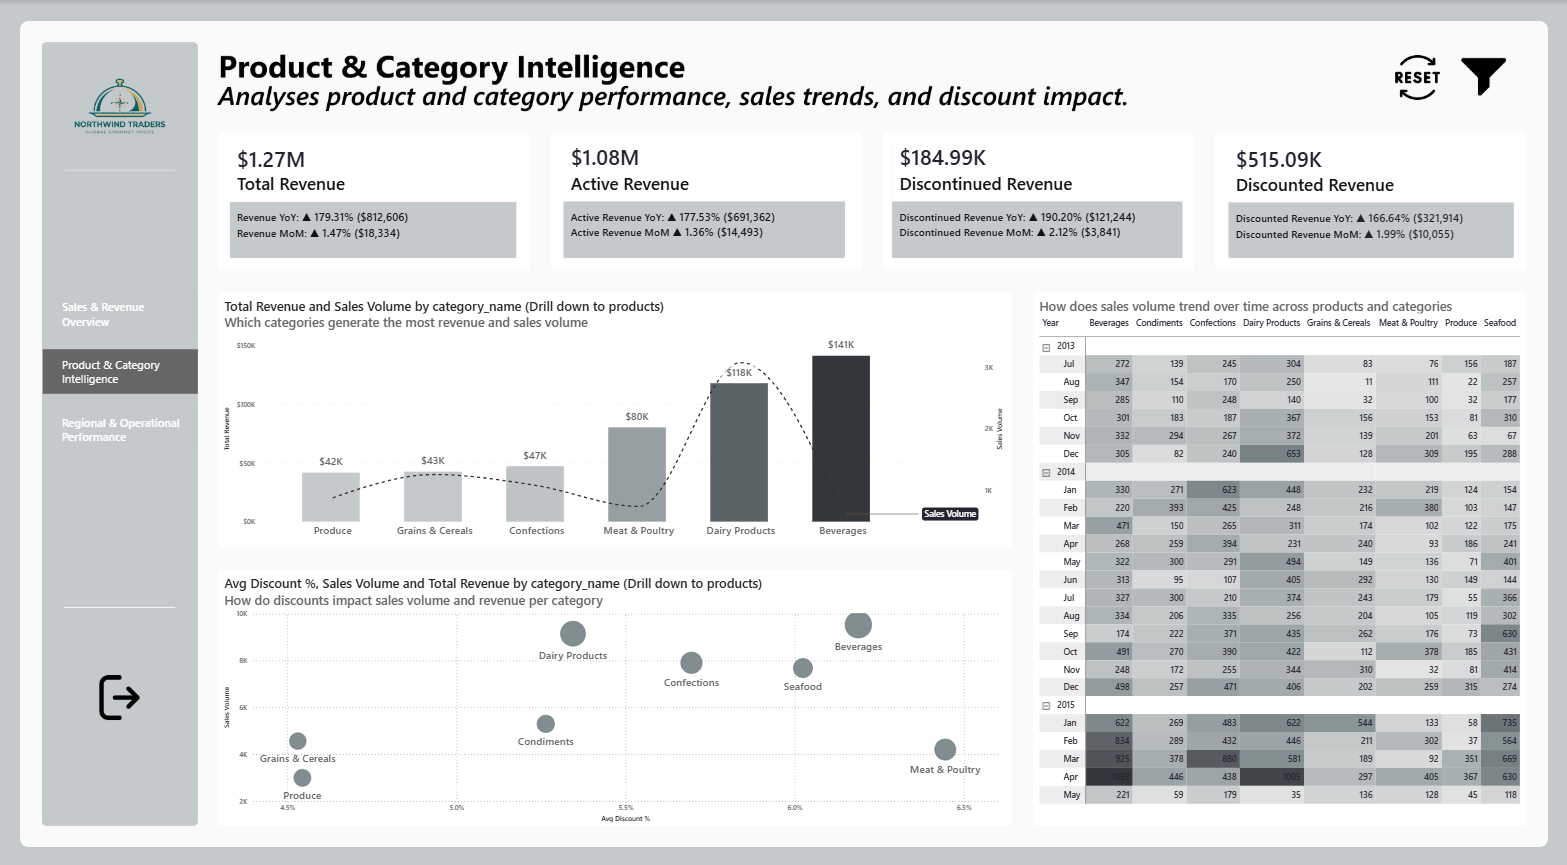

The page's visual inventory and layout, read from the dashboard file:
{"tool":"powerbi","page":{"name":"Product & Category Intelligence","canvas":[2449,1355],"ordinal":1},"visuals":[{"type":"lineClusteredColumnComboChart","title":"Total Revenue and Sales Volume by category_name (Drill down to products)","fields":{"Category":["category.category_name","product.product_name"],"Y":["Calculated Measures.Total Revenue"],"Y2":["Calculated Measures.Sales Volume"]},"box":[342,452,1238,402],"z":0},{"type":"pivotTable","fields":{"Columns":["category.category_name","product.product_name"],"Rows":["date.Year","date.Short Month"],"Values":["Calculated Measures.Sales Volume"]},"box":[1612,452,770,840],"z":1000},{"type":"scatterChart","title":"Avg Discount %, Sales Volume and Total Revenue by category_name (Drill down to products)","fields":{"X":["Calculated Measures.Avg Discount %"],"Y":["Calculated Measures.Sales Volume"],"Size":["Calculated Measures.Total Revenue"],"Category":["category.category_name","product.product_name"]},"box":[341.3,885.4,1238.4,407.6],"z":2000},{"type":"cardVisual","fields":{"Data":["Calculated Measures.Total Revenue"]},"box":[342,204,484,216],"z":3000},{"type":"cardVisual","fields":{"Data":["Calculated Measures.Active Revenue"]},"box":[862,202,476,218],"z":4000},{"type":"cardVisual","fields":{"Data":["Calculated Measures.Discontinued Revenue"]},"box":[1374,202,490,218],"z":5000},{"type":"cardVisual","fields":{"Data":["Calculated Measures.Discounted Revenue"]},"box":[1900,206,482,214],"z":6000},{"type":"shape","box":[2262.8,74.9,100.6,84.2],"z":7000},{"type":"actionButton","title":"Slicer Reset","box":[2162,74,100,84],"z":8000},{"type":"actionButton","title":"Back button","box":[132,1046,100,84],"z":11000},{"type":"pageNavigator","box":[68,454,242,250],"z":11001}]}

Visuals, with their boxes in screenshot pixels (x1, y1, x2, y2), scaled from the page's 2449x1355 canvas onto the 1567x865 screenshot:
"Total Revenue and Sales Volume by category_name (Drill down to products)" lineClusteredColumnComboChart: [219, 289, 1011, 545]
pivotTable - category.category_name x product.product_name: [1031, 289, 1524, 825]
"Avg Discount %, Sales Volume and Total Revenue by category_name (Drill down to products)" scatterChart: [218, 565, 1011, 825]
cardVisual - Calculated Measures.Total Revenue: [219, 130, 529, 268]
cardVisual - Calculated Measures.Active Revenue: [552, 129, 856, 268]
cardVisual - Calculated Measures.Discontinued Revenue: [879, 129, 1193, 268]
cardVisual - Calculated Measures.Discounted Revenue: [1216, 132, 1524, 268]
shape: [1448, 48, 1512, 102]
"Slicer Reset" actionButton: [1383, 47, 1447, 101]
"Back button" actionButton: [84, 668, 148, 721]
pageNavigator: [44, 290, 198, 449]
